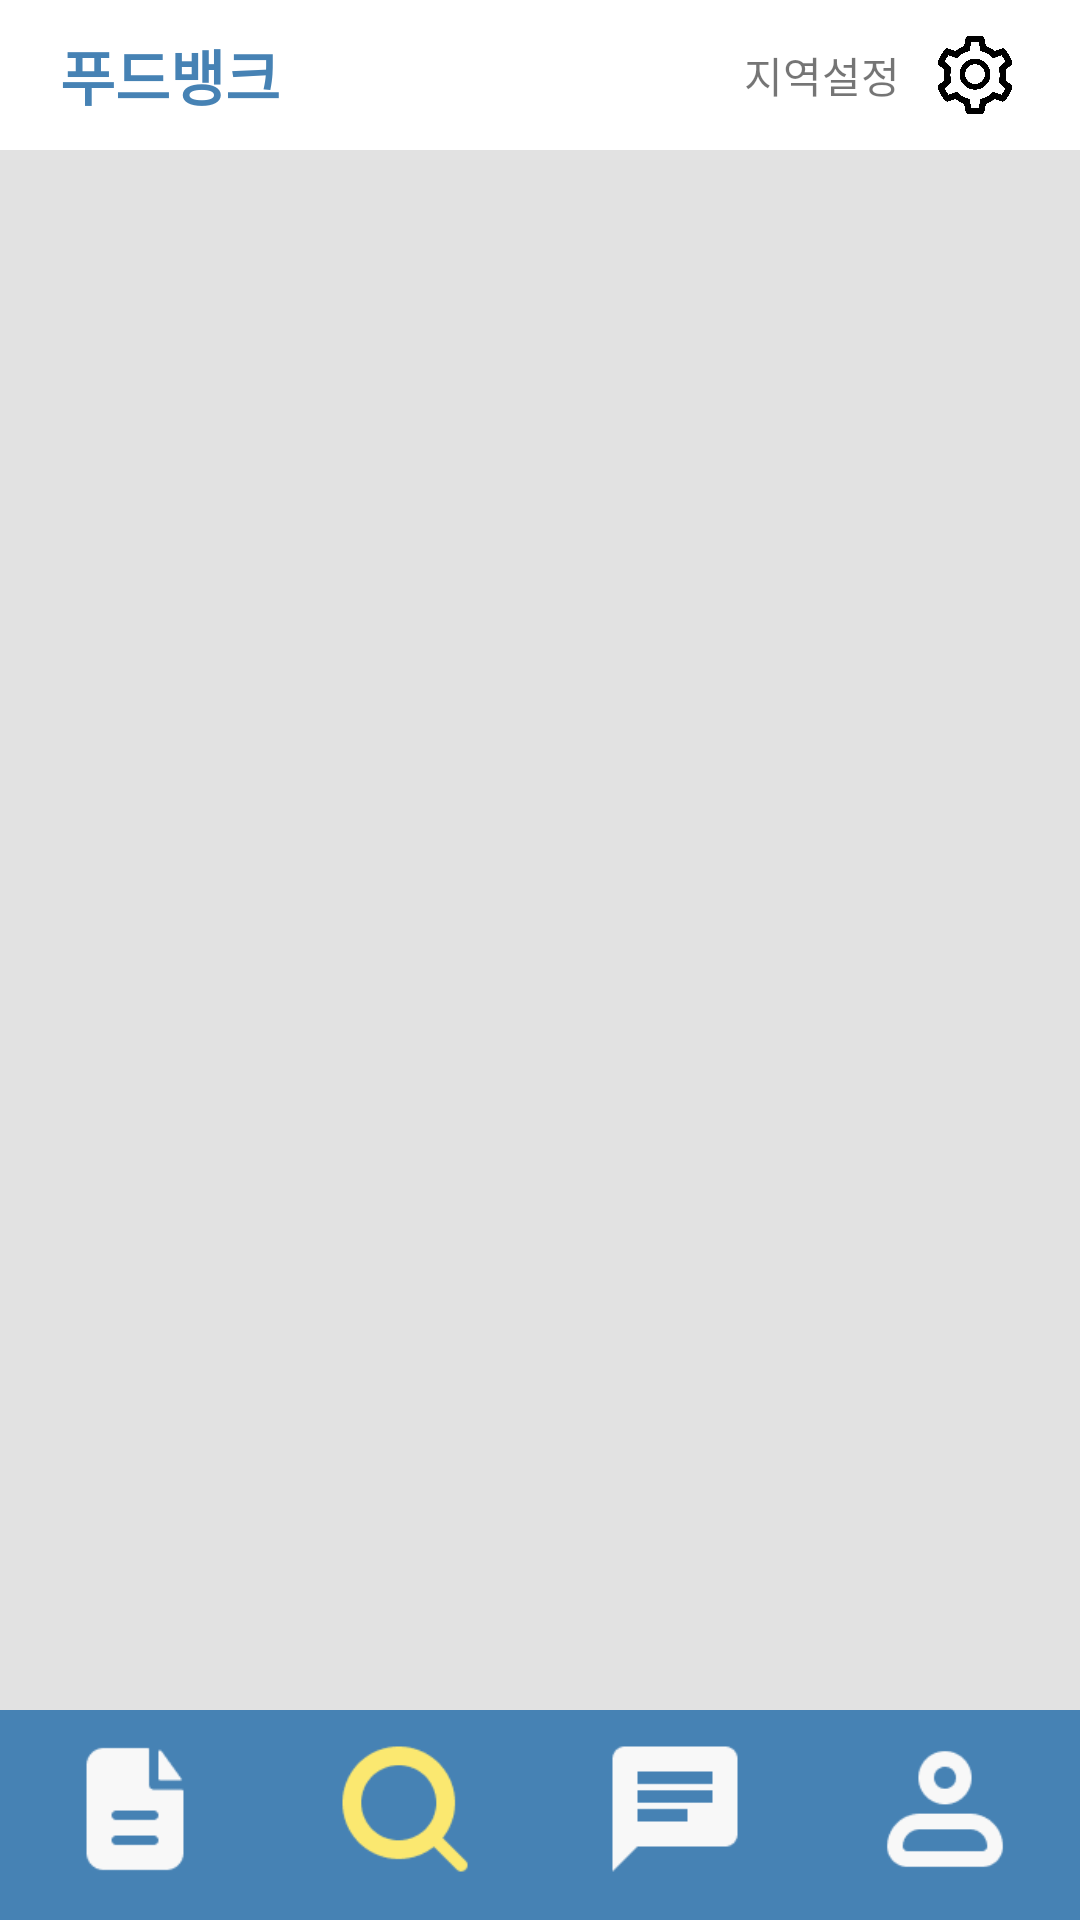

Icon click points for this 1080×1920 phone screenshot, format [x,y]:
foodsetting: [975,75]
offchat: [675,1809]
offdocument: [135,1809]
offprofile: [945,1809]
onsearch: [405,1809]
